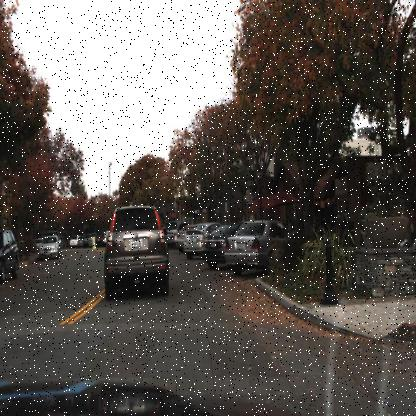car: (99, 200, 172, 300), (227, 223, 284, 273), (202, 226, 238, 268), (0, 226, 19, 288), (185, 223, 214, 259), (37, 232, 61, 258), (162, 220, 180, 252), (161, 220, 179, 247), (175, 225, 187, 252), (70, 235, 80, 248)
